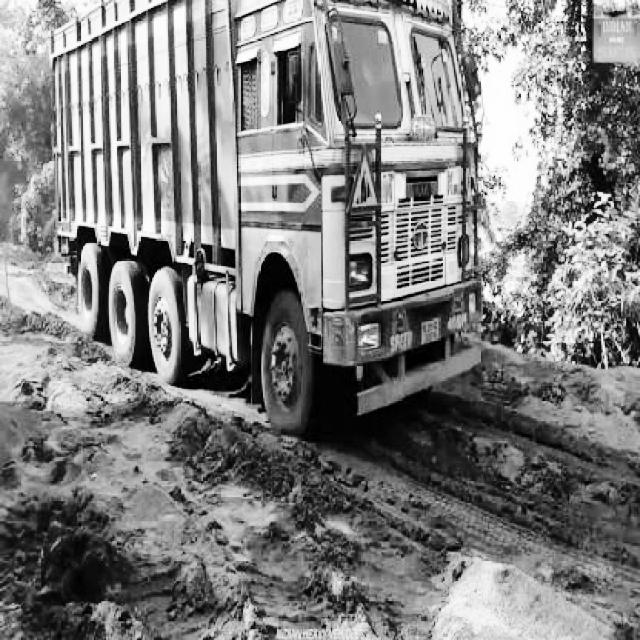HCV: (49, 20, 486, 392)
